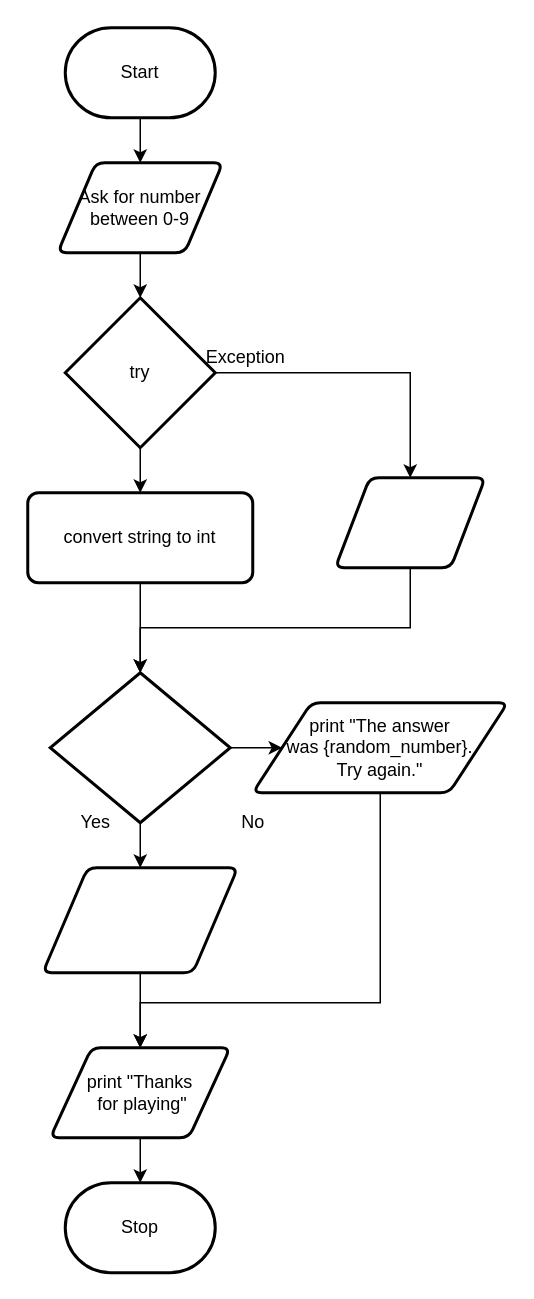
The diagram is 534 pixels wide and 1299 high, and some of its shapes have lost their labels. Here are the shapes that lost their labels. From the top down, the box of each, then its label:
(333, 476, 486, 568): print "Invalid integer"
(48, 670, 231, 824): if number == random_number
(40, 866, 238, 974): print "YAY! You guessed the correct number!"
